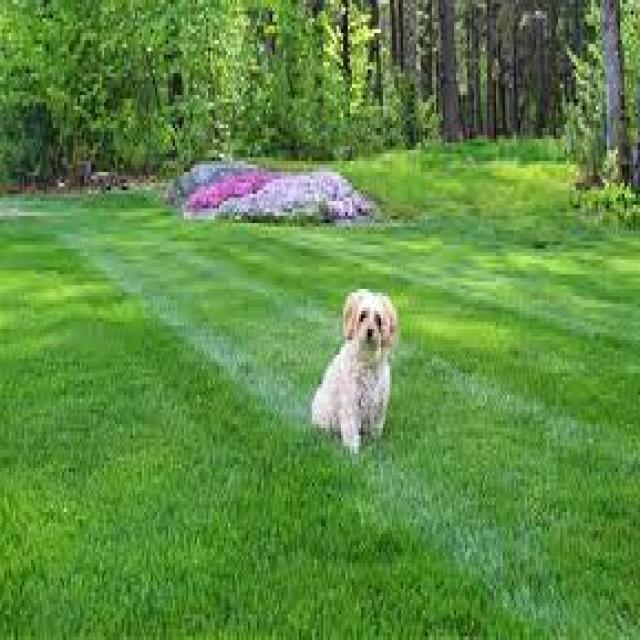lawn: (0, 145, 640, 640)
